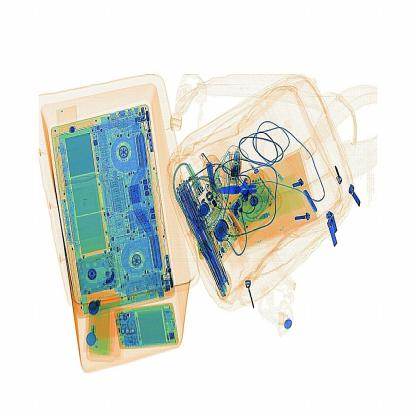gun: (208, 168, 278, 204)
